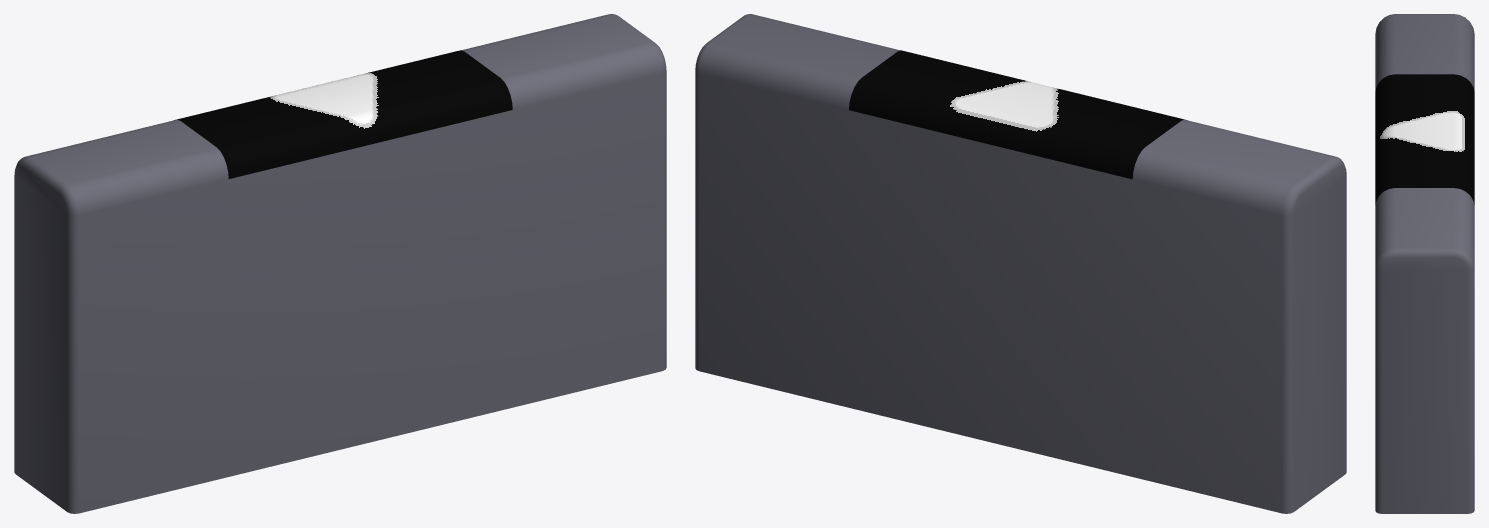
The model's file is SM_Grinder_2X_01.fbx.
3 views of the same model, side by side, from view 1: azimuth 30°, elevation 25°; view 2: azimuth 150°, elevation 25°; view 3: azimuth 270°, elevation 25° (orthographic). The views are drawn at different scales.
Parts seen in each view (by area): view 1: SM_Grinder_2X_01; view 2: SM_Grinder_2X_01; view 3: SM_Grinder_2X_01.
Boxes of the visible parts, <box> form: SM_Grinder_2X_01: <box>14,14,666,513</box>; SM_Grinder_2X_01: <box>695,14,1346,513</box>; SM_Grinder_2X_01: <box>1375,14,1474,513</box>.
Bounding box in the file's own units: 200 × 103 × 35.1.
